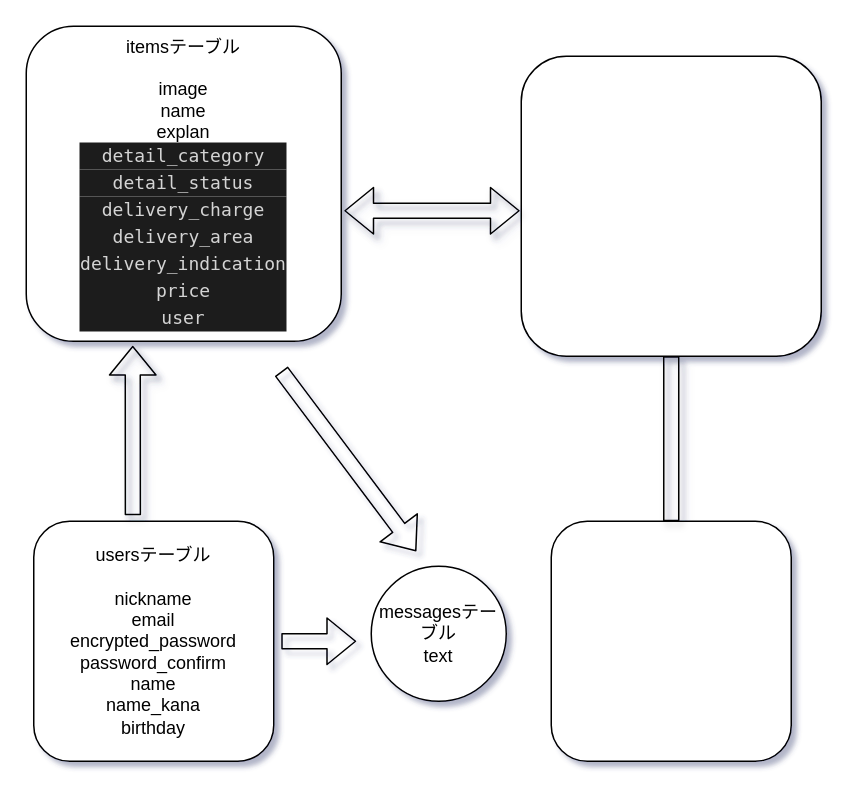
The diagram is 857 pixels wide and 797 high, and some of its shapes have lost their labels. The shapes that lost their labels are listed below. From the top down, each one's centre as x and y in pixels, then its label:
At point (670, 205): "purchacesテーブル name category status charge area indication user item".
At point (670, 640): "adressテーブル code prefectures municipalities address building number purchase".
